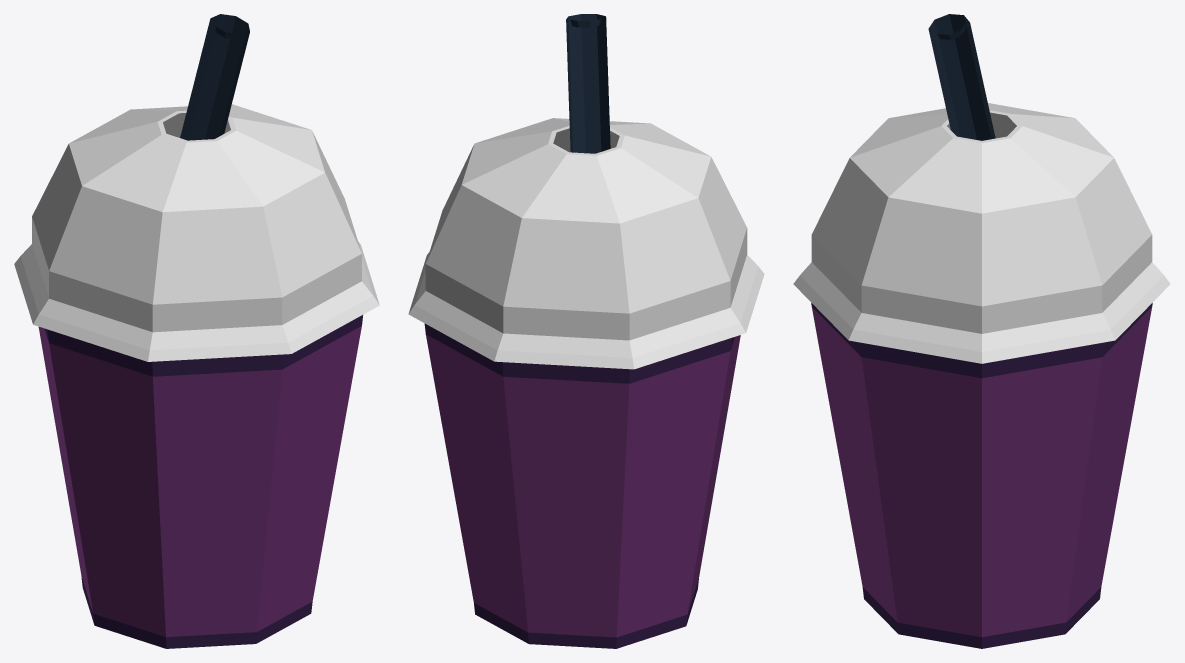
The model's file is Potion.UbeBoba.fbx.
3 renders of one model, left to right at view 1: azimuth 30°, elevation 25°; view 2: azimuth 150°, elevation 25°; view 3: azimuth 270°, elevation 25°, orthographic. The views are drawn at different scales.
Visible parts, largest first — view 1: Potion.GrapeBoba; view 2: Potion.GrapeBoba; view 3: Potion.GrapeBoba.
Boxes of the visible parts, x1=… form: Potion.GrapeBoba: x1=14, y1=14, x2=379, y2=648; Potion.GrapeBoba: x1=408, y1=14, x2=764, y2=648; Potion.GrapeBoba: x1=793, y1=14, x2=1170, y2=648.
Size of the model in its own units: 45.69 by 78.27 by 45.69.
